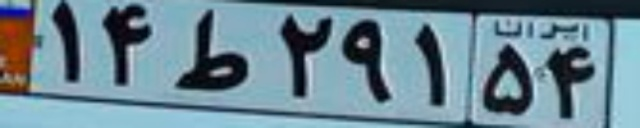1: (48, 0, 81, 82), (413, 23, 446, 105)
2: (277, 16, 328, 98)
4: (99, 5, 156, 86), (544, 46, 595, 119)
5: (476, 42, 534, 114)
9: (338, 18, 393, 102)
taa: (172, 8, 251, 91)
